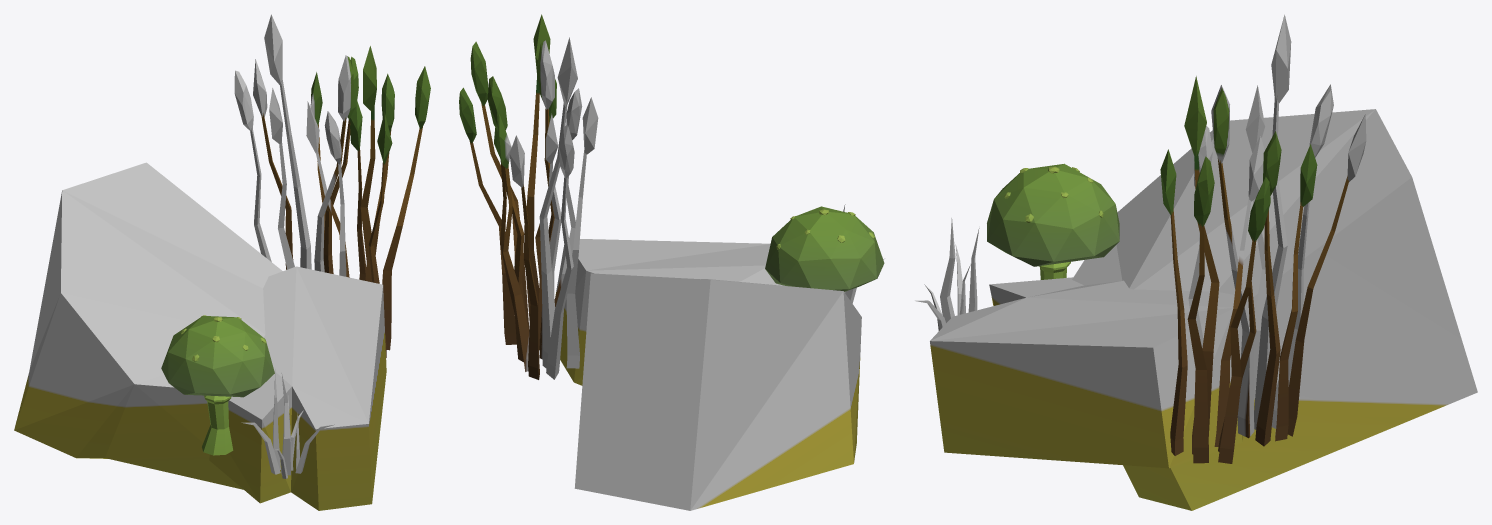
The model's file is Rock_19.fbx.
3 renders of one model, left to right at view 1: azimuth 30°, elevation 25°; view 2: azimuth 150°, elevation 25°; view 3: azimuth 270°, elevation 25°, orthographic. The views are drawn at different scales.
Parts seen in each view (by area): view 1: Rock_19; view 2: Rock_19; view 3: Rock_19.
Part boxes in pixels (x1,y1,x2,y2): Rock_19: (14, 14, 430, 510); Rock_19: (459, 14, 884, 510); Rock_19: (915, 14, 1477, 510).
Size of the model in its own units: 2.22 by 2.21 by 2.28.
